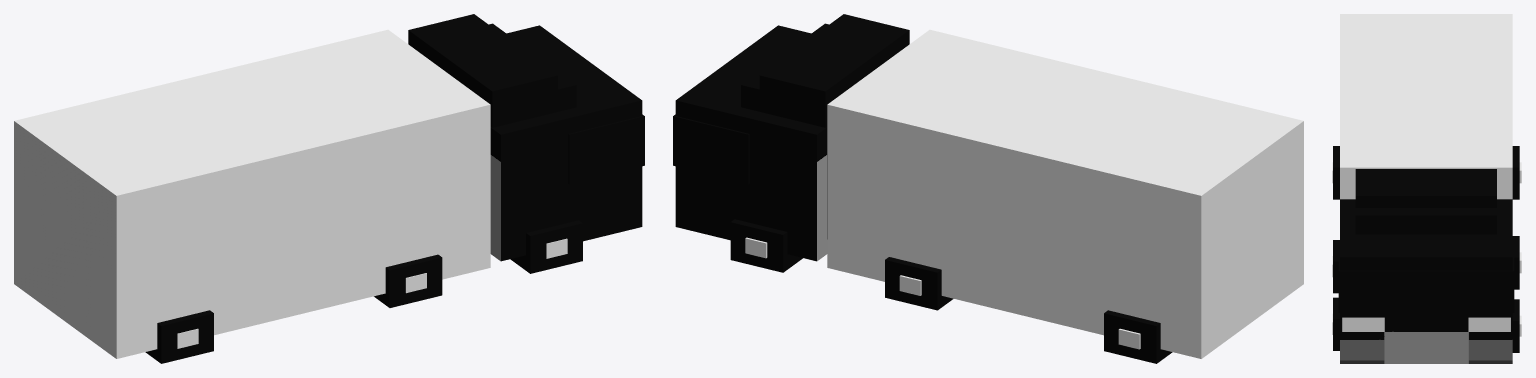
Rendered from Car_Truck.fbx.
3 renders of one model, left to right at view 1: azimuth 30°, elevation 25°; view 2: azimuth 150°, elevation 25°; view 3: azimuth 270°, elevation 25°, orthographic. The views are drawn at different scales.
Parts seen in each view (by area): view 1: Truck, Truck.002; view 2: Truck, Truck.002; view 3: Truck, Truck.002.
Boxes of the visible parts, x1=… form: Truck: x1=14, y1=29, x2=644, y2=363; Truck.002: x1=408, y1=14, x2=642, y2=261; Truck: x1=673, y1=29, x2=1303, y2=363; Truck.002: x1=675, y1=14, x2=909, y2=261; Truck: x1=1332, y1=14, x2=1521, y2=352; Truck.002: x1=1340, y1=169, x2=1512, y2=363.
Bounding box in the file's own units: 1000 × 369 × 323.
5 materials, 1 textured.
